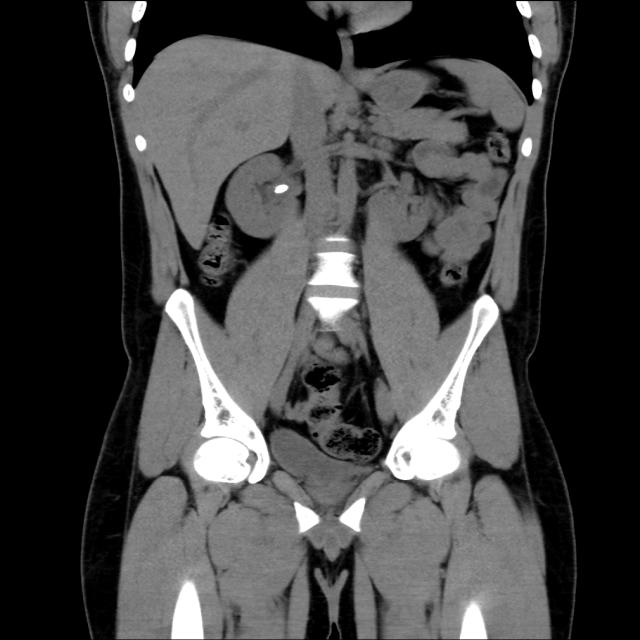kidneystone: (274, 184, 289, 194)
